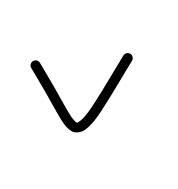b: (23, 51, 80, 147)
t: (74, 42, 137, 144)
